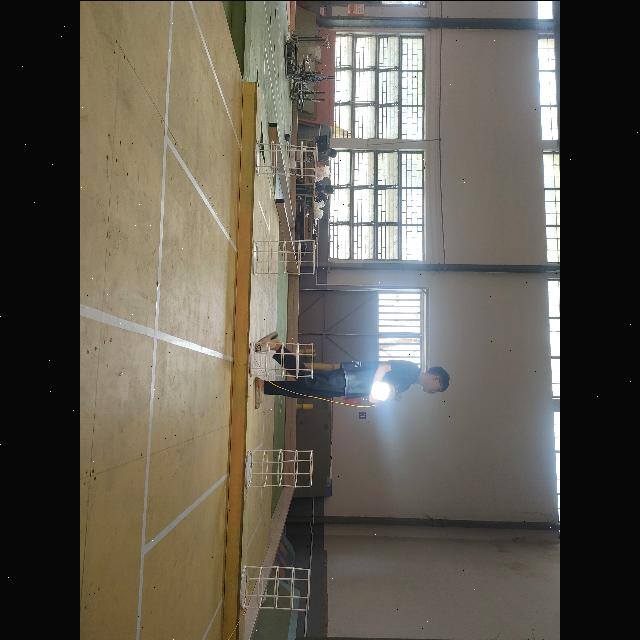S: (236, 558, 312, 612), (244, 442, 318, 492), (242, 338, 316, 382), (253, 136, 321, 182), (252, 237, 321, 276)
